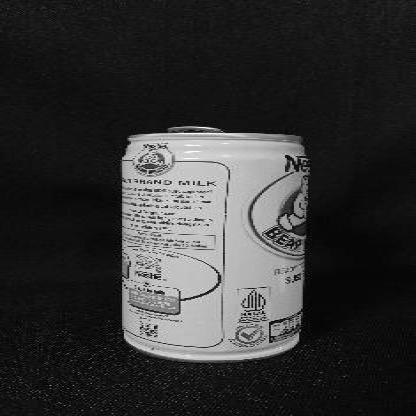alumunium_can: (120, 127, 310, 364)
